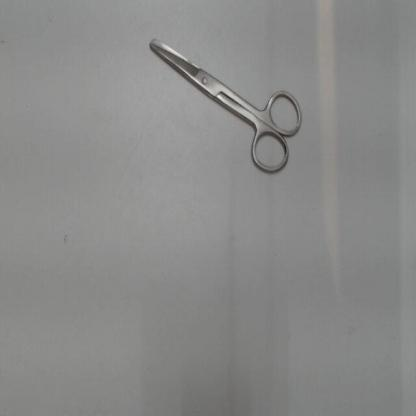Dressing Scissors: (137, 29, 313, 184)
